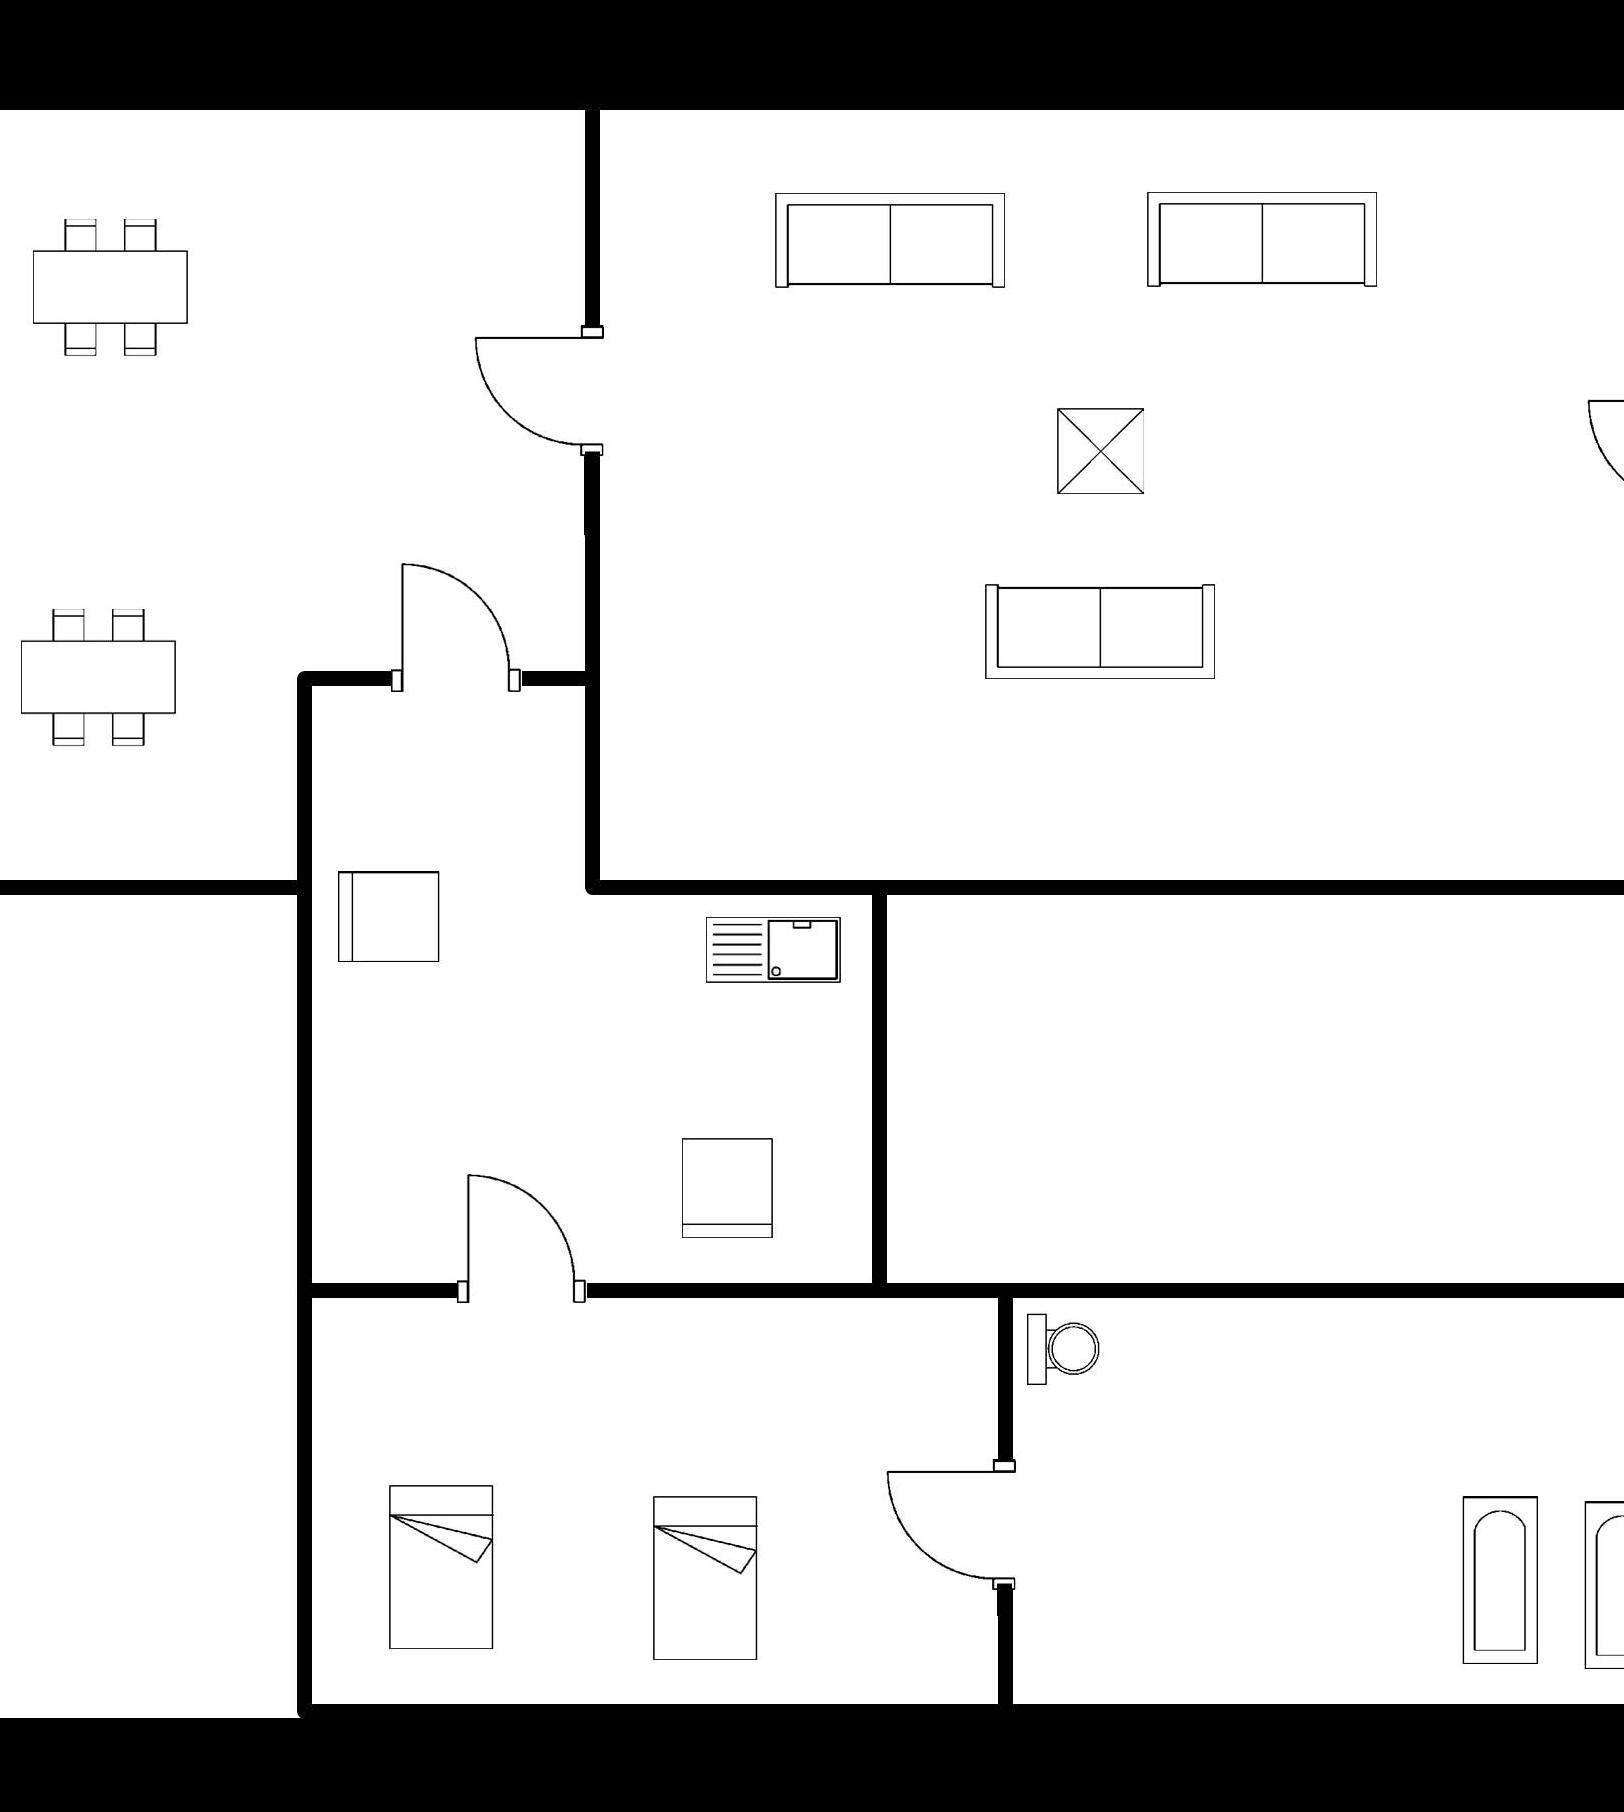bed: (373, 1469, 506, 1665), (636, 1486, 770, 1668)
dining_table: (6, 589, 191, 760), (16, 198, 201, 365)
sink: (690, 904, 846, 994)
sofa: (762, 177, 1019, 307), (1132, 177, 1387, 304), (969, 567, 1231, 690)
toilet: (1016, 1299, 1108, 1395)
tub: (1452, 1475, 1550, 1677), (1569, 1481, 1624, 1679)
